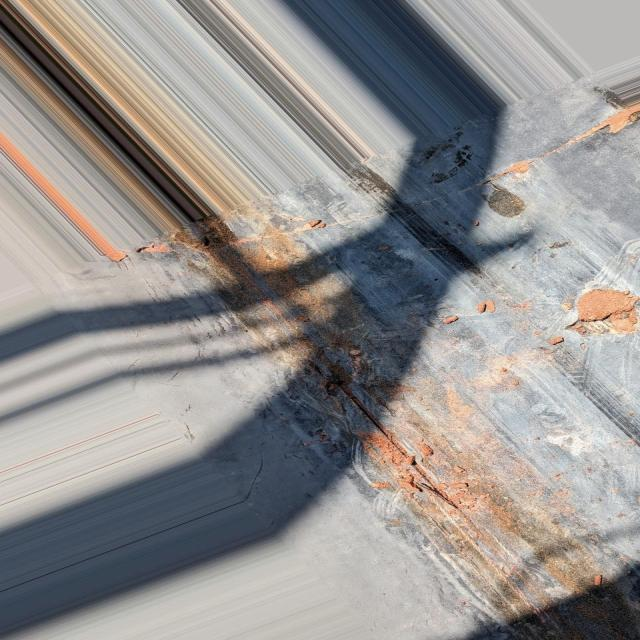Wear: (167, 210, 623, 623)
